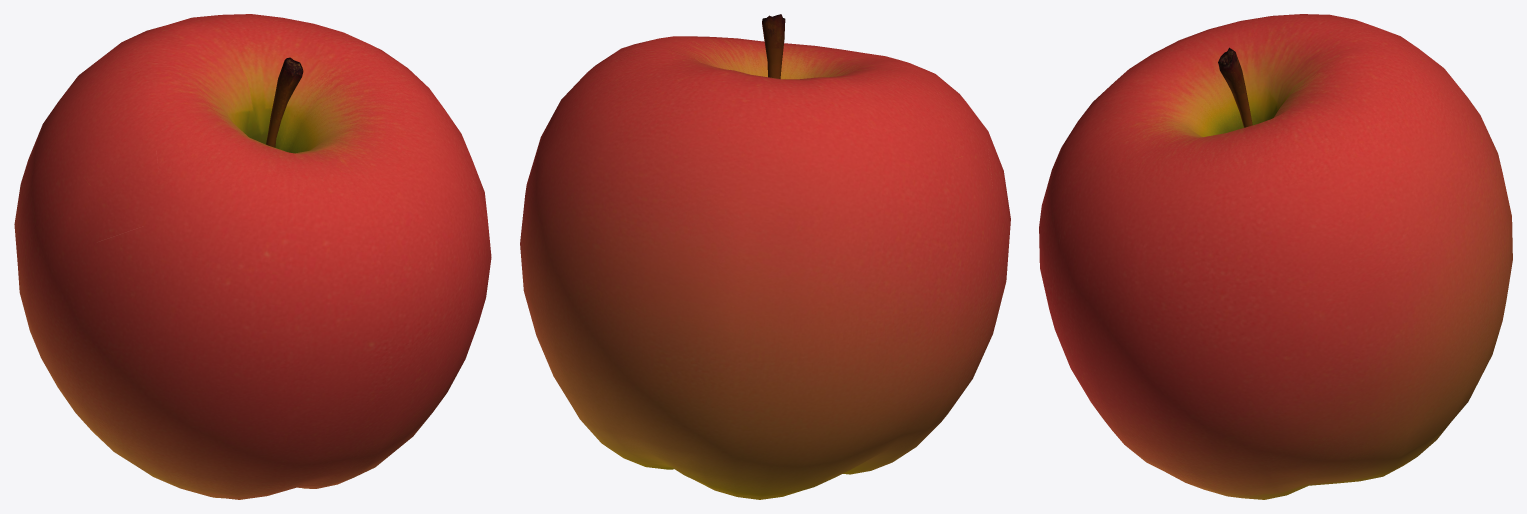
File: Apple.glb
3 renders of one model, left to right at view 1: azimuth 30°, elevation 25°; view 2: azimuth 150°, elevation 25°; view 3: azimuth 270°, elevation 25°, orthographic. The views are drawn at different scales.
Parts seen in each view (by area): view 1: pb_node; view 2: pb_node; view 3: pb_node.
Boxes of the visible parts, x1,y1,x2,y2 form: pb_node: [14, 14, 491, 499]; pb_node: [520, 14, 1010, 499]; pb_node: [1039, 14, 1512, 499].
Bounding box in the file's own units: 0.998 × 0.9785 × 0.998.
1 material, 1 textured.
